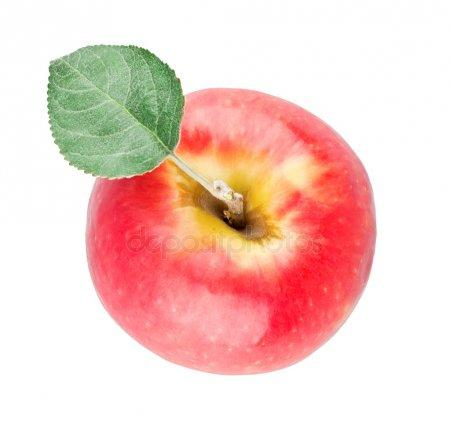Apple leaf: (39, 43, 189, 190)
